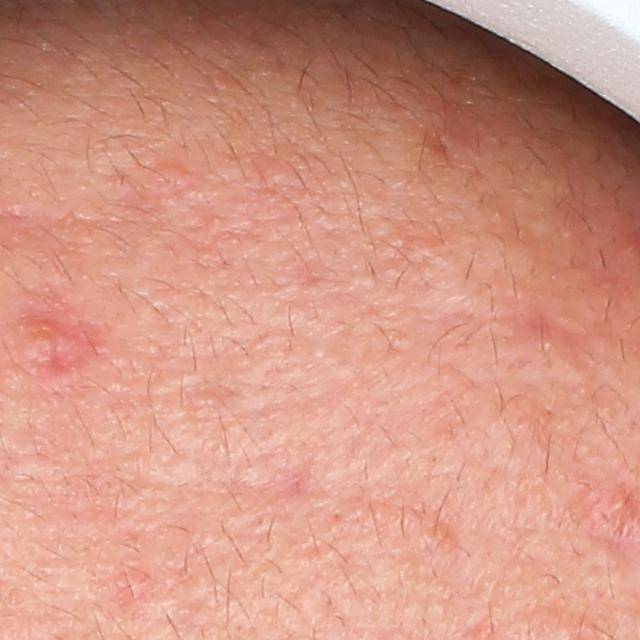papule: (6, 301, 110, 392), (604, 487, 638, 512)
